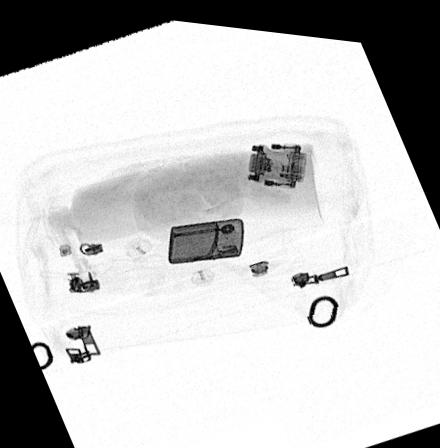Lighter: (167, 211, 244, 261)
